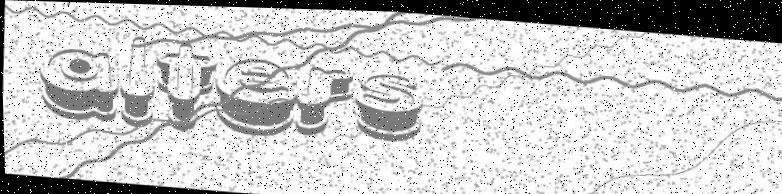a: (35, 43, 120, 122)
e: (210, 52, 299, 138)
l: (115, 33, 159, 129)
r: (293, 62, 356, 139)
s: (351, 68, 425, 142)
t: (151, 38, 217, 132)
